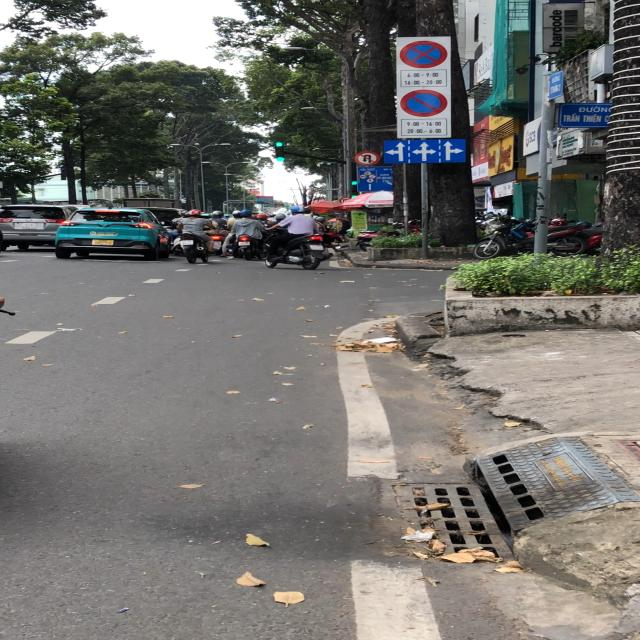Bien bao cam do xe: (400, 88, 451, 118)
Bien bao cam dung xe va do xe: (397, 40, 451, 72)
Bien bao cam quay dau xe: (353, 150, 381, 167)
